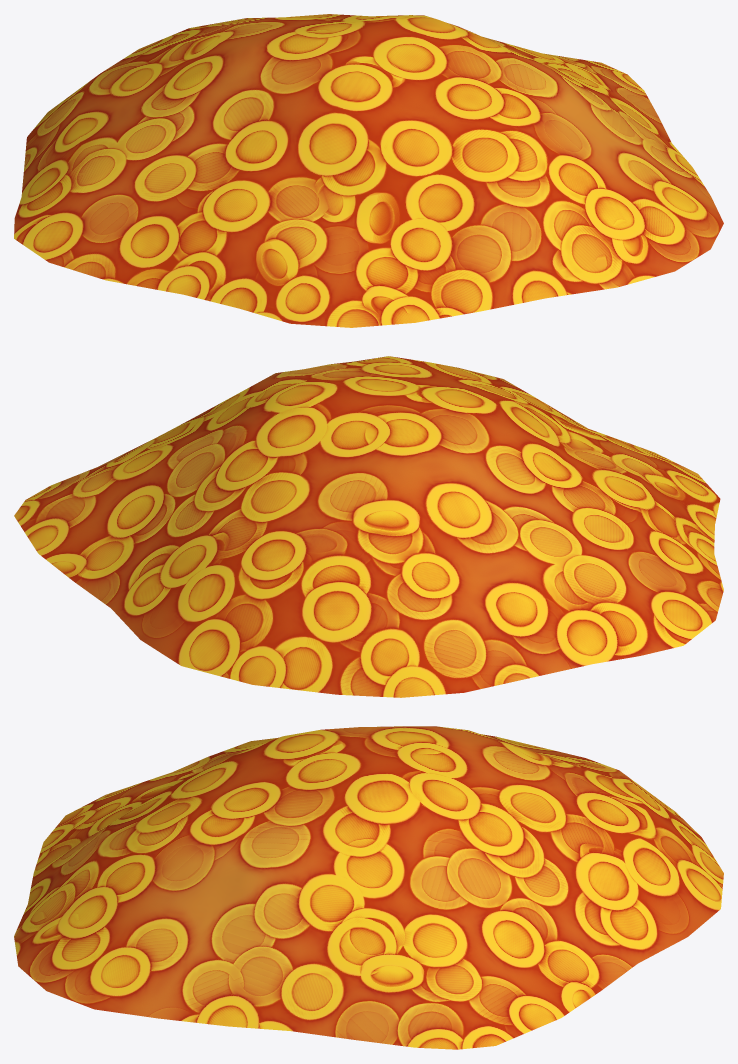
File: SM_Medium_Coin_Pile.fbx
3 renders of one model, top to bottom at view 1: azimuth 30°, elevation 25°; view 2: azimuth 150°, elevation 25°; view 3: azimuth 270°, elevation 25°, orthographic. The views are drawn at different scales.
Visible parts, largest first — view 1: SM_Medium_Coin_Pile_LOD0; view 2: SM_Medium_Coin_Pile_LOD0; view 3: SM_Medium_Coin_Pile_LOD0.
Part boxes in pixels (x1,y1,x2,y2): SM_Medium_Coin_Pile_LOD0: [14, 14, 723, 327]; SM_Medium_Coin_Pile_LOD0: [14, 356, 723, 697]; SM_Medium_Coin_Pile_LOD0: [14, 726, 723, 1049].
Size of the model in its own units: 126 by 120 by 26.79.
Materials: 1 (1 with a texture image).
